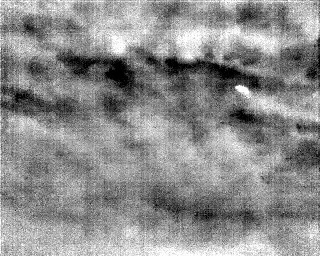BIRD: (223, 82, 243, 98)
